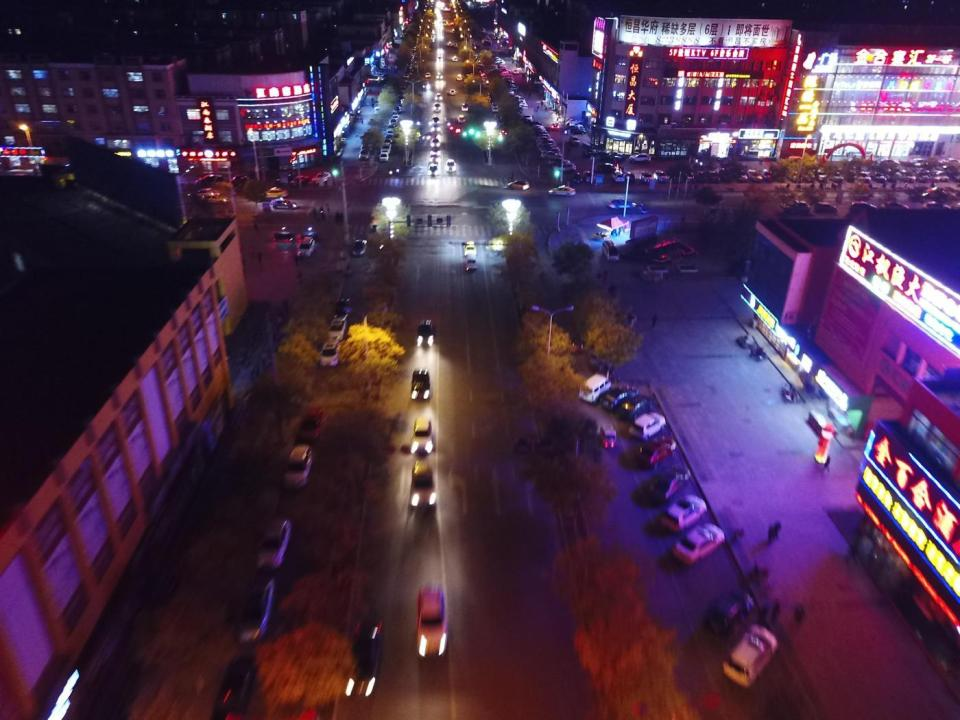bus: (600, 425, 616, 447), (428, 164, 438, 175)
car: (722, 624, 778, 687), (212, 651, 257, 720), (343, 621, 382, 696), (236, 575, 273, 641), (671, 522, 724, 564), (417, 584, 447, 656), (708, 590, 752, 637), (255, 516, 292, 570), (661, 493, 706, 534), (648, 465, 689, 499), (284, 443, 312, 489), (638, 436, 678, 466), (629, 412, 666, 440), (296, 406, 322, 442), (619, 394, 656, 418), (601, 385, 637, 408), (320, 339, 340, 367), (412, 369, 430, 400), (418, 320, 434, 346), (328, 317, 345, 341), (880, 200, 908, 214), (269, 197, 297, 210), (923, 201, 951, 214), (297, 237, 314, 257), (196, 174, 224, 186), (260, 186, 288, 197), (609, 198, 636, 209), (849, 202, 876, 213), (568, 334, 584, 352), (549, 185, 575, 196), (310, 171, 330, 185), (203, 193, 226, 205), (937, 157, 959, 169), (922, 186, 946, 197), (336, 297, 350, 315), (230, 174, 250, 186), (188, 188, 212, 198), (351, 240, 366, 256), (896, 169, 914, 182), (508, 179, 529, 190), (629, 152, 650, 163), (815, 202, 836, 212), (878, 158, 899, 168), (290, 174, 309, 185), (915, 169, 928, 184), (553, 164, 577, 172), (872, 168, 885, 182), (654, 169, 667, 182), (748, 169, 761, 182), (787, 169, 800, 182), (935, 168, 948, 181), (684, 168, 695, 182), (762, 167, 773, 181), (597, 162, 614, 171), (584, 148, 601, 157), (541, 151, 562, 158), (708, 170, 720, 182), (830, 170, 842, 182), (858, 170, 870, 182), (908, 158, 926, 166), (612, 171, 625, 182), (695, 168, 705, 182), (804, 169, 814, 183), (816, 168, 826, 182), (734, 169, 746, 180), (773, 169, 784, 181), (885, 170, 896, 182), (640, 172, 653, 182), (928, 169, 938, 182), (422, 131, 436, 140), (537, 139, 555, 146), (538, 145, 558, 151), (549, 158, 569, 164), (671, 170, 681, 182), (721, 168, 731, 180), (567, 124, 584, 131), (846, 169, 855, 182), (528, 124, 544, 131), (602, 151, 614, 160), (569, 129, 586, 135), (359, 149, 369, 159), (533, 129, 546, 136), (573, 173, 582, 183), (615, 152, 626, 160), (533, 134, 550, 139), (430, 138, 440, 146), (566, 120, 582, 125), (520, 115, 533, 121), (431, 148, 440, 156), (430, 156, 439, 164), (380, 153, 388, 162), (626, 172, 634, 181), (570, 136, 579, 144), (434, 92, 442, 100), (380, 147, 389, 154), (527, 122, 542, 126), (362, 142, 369, 150), (458, 115, 466, 122), (552, 123, 560, 130), (432, 117, 439, 124), (397, 94, 404, 101), (393, 106, 400, 113), (389, 118, 396, 125), (422, 82, 430, 88), (434, 102, 440, 110), (432, 125, 440, 131), (384, 138, 392, 144), (382, 143, 390, 149), (494, 64, 506, 68), (482, 42, 493, 46), (396, 100, 403, 106), (392, 114, 399, 120), (387, 129, 393, 136), (368, 118, 374, 125), (449, 88, 455, 95), (462, 103, 468, 110), (481, 40, 491, 44), (492, 56, 500, 61), (512, 95, 522, 99), (517, 102, 527, 106), (425, 72, 431, 78), (437, 56, 443, 62), (482, 38, 491, 42), (494, 59, 503, 63), (436, 80, 443, 85), (482, 80, 490, 84), (498, 67, 506, 71), (506, 90, 514, 94), (438, 48, 443, 54), (457, 74, 462, 80), (452, 56, 458, 61), (387, 124, 394, 128), (382, 74, 389, 78), (478, 28, 485, 32), (507, 77, 514, 81), (437, 73, 442, 78), (493, 107, 499, 111), (491, 103, 497, 107), (477, 62, 483, 66), (482, 36, 490, 39), (481, 76, 487, 80), (507, 82, 515, 85), (517, 99, 525, 102), (519, 106, 527, 109), (480, 4, 486, 8), (404, 74, 409, 78), (476, 59, 481, 63), (481, 72, 486, 76), (484, 84, 489, 88), (382, 65, 386, 69), (412, 46, 416, 50), (448, 42, 452, 46), (451, 29, 455, 33), (510, 87, 518, 89), (474, 52, 477, 56), (455, 44, 458, 48), (450, 21, 453, 25), (514, 70, 518, 73), (479, 69, 484, 71), (445, 7, 448, 10), (446, 22, 448, 26), (494, 36, 498, 38), (448, 7, 450, 10)
truck: (780, 200, 809, 213)
van: (410, 461, 435, 504), (578, 374, 611, 403), (412, 418, 433, 454), (602, 240, 619, 260), (464, 254, 477, 270), (464, 241, 477, 255), (445, 159, 455, 172), (584, 171, 594, 182), (502, 73, 511, 79), (374, 106, 380, 114), (499, 71, 509, 75)
